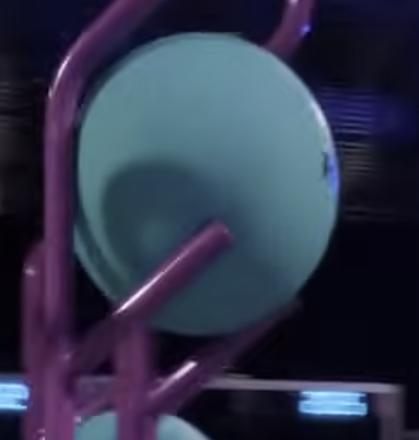algae: (72, 32, 337, 334), (74, 409, 209, 440)
